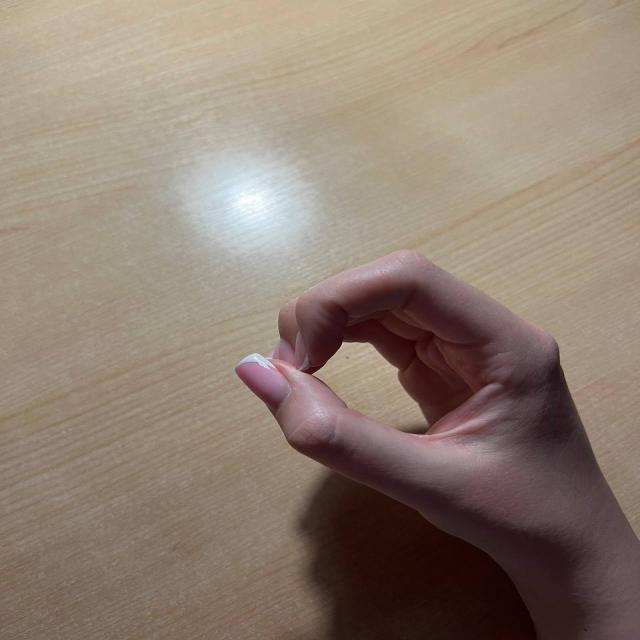e: (227, 253, 589, 527)
